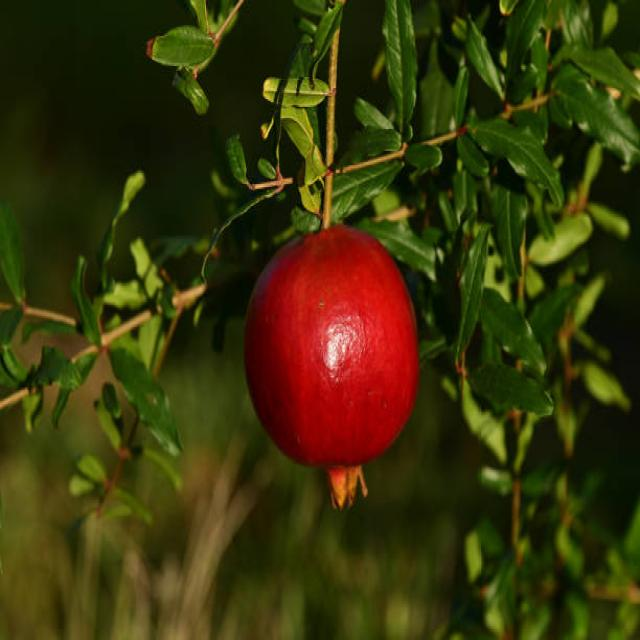Ripe: (239, 218, 424, 511)
